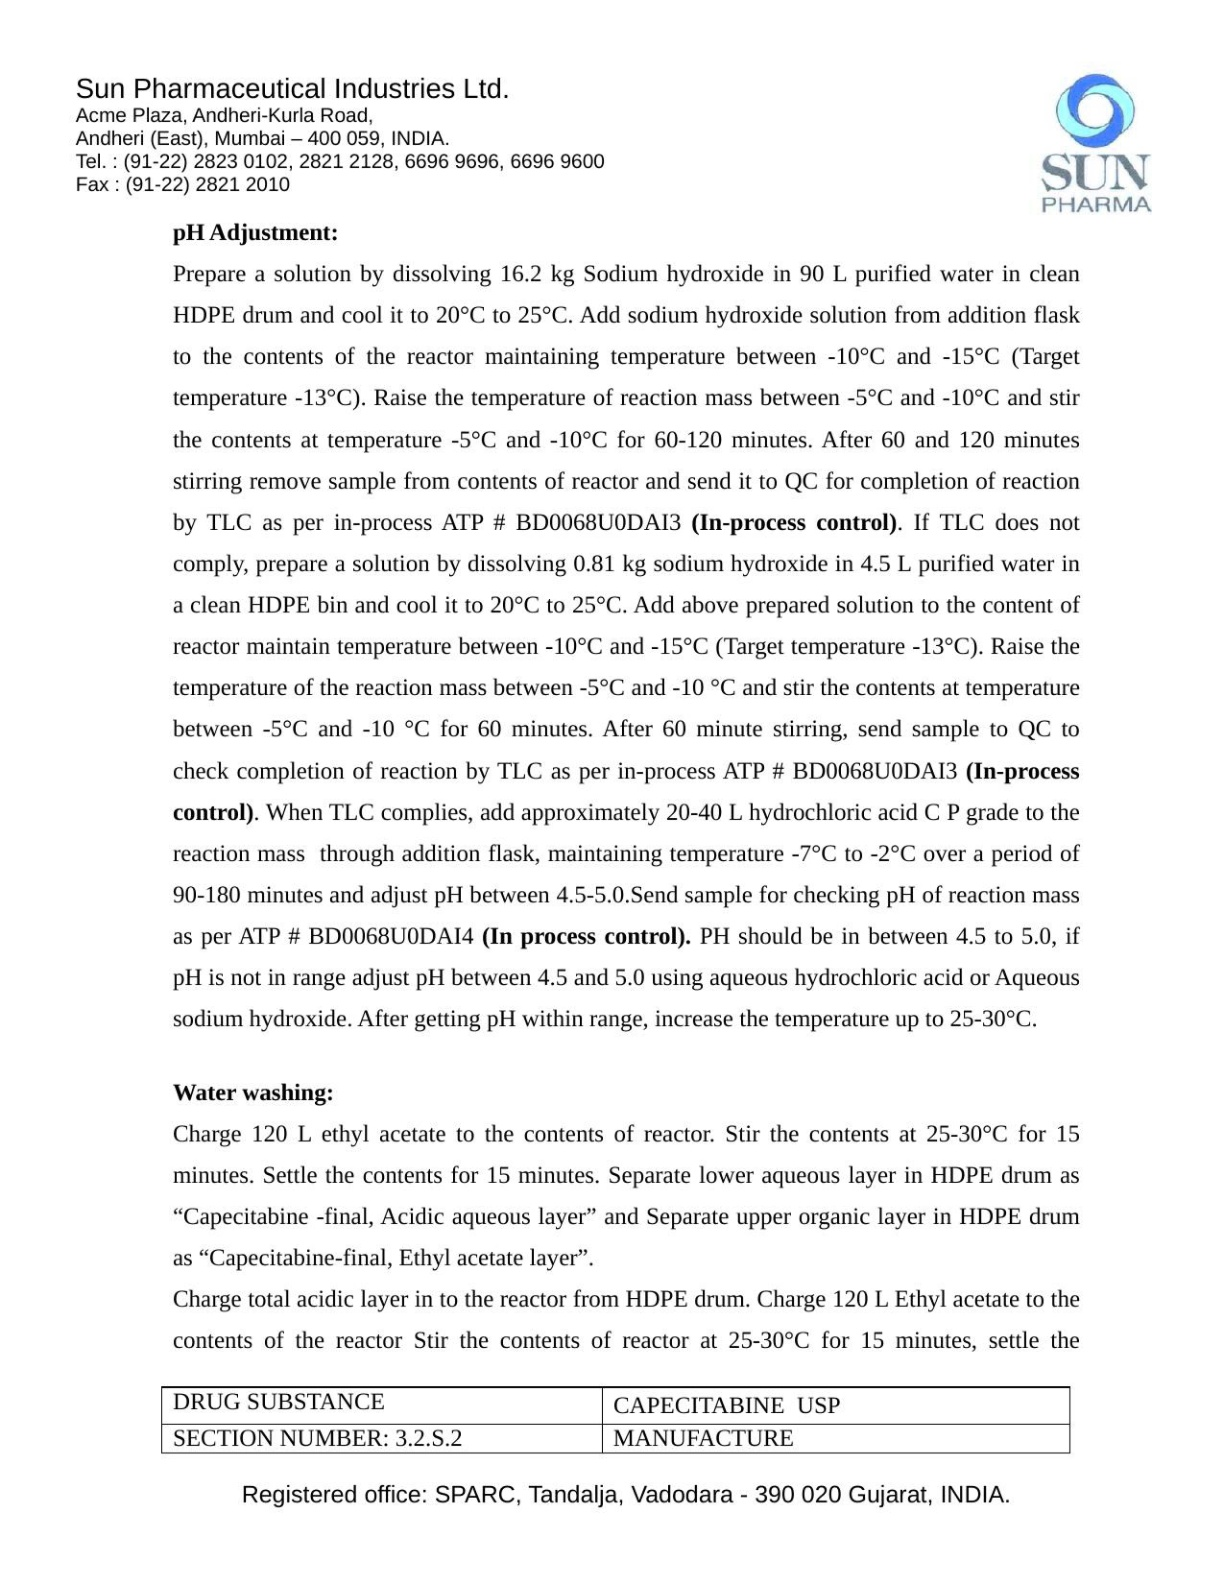full_lined: (159, 1386, 1072, 1455)
